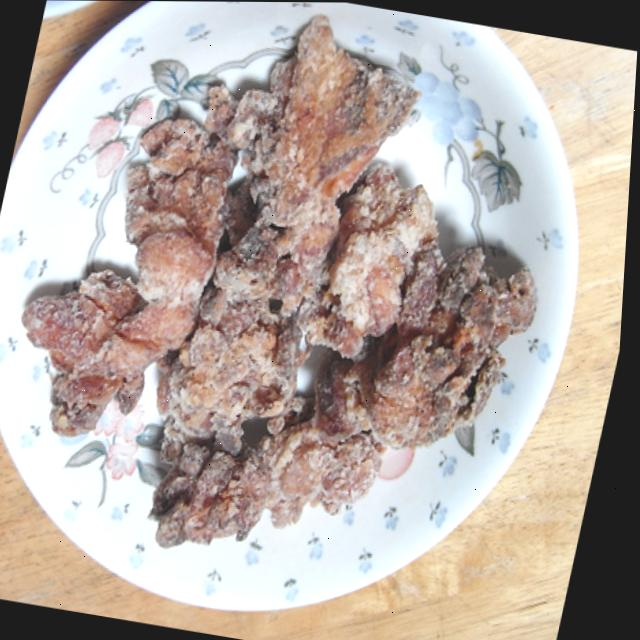鸡肉料理 含炸鸡: (0, 0, 627, 637)
